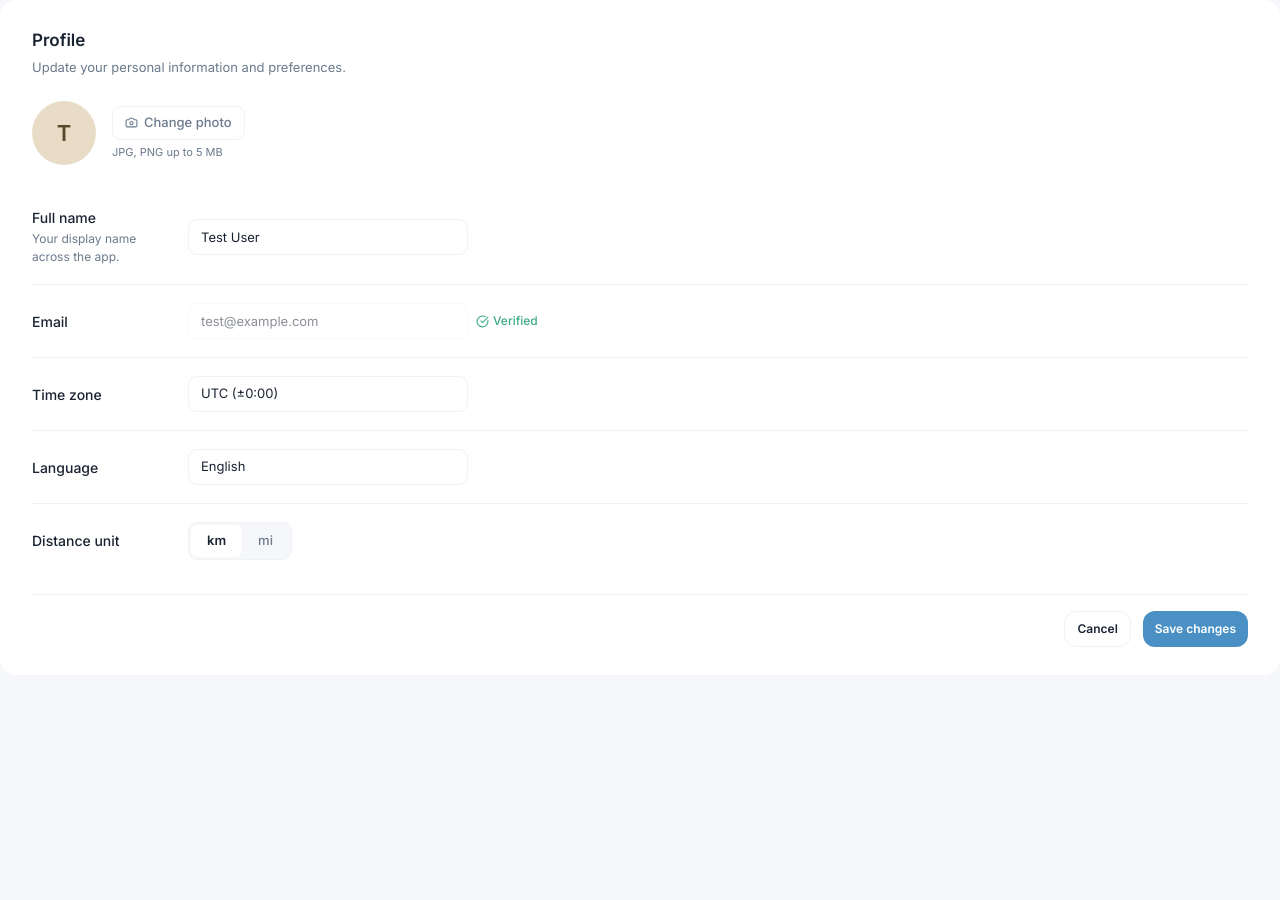
Test: ProfileSection › shows success toast after saving
Replace the text in the field showing "Test User" next to "Your display name across the app." with "New Name": (328, 236) 188,218 -> 468,254
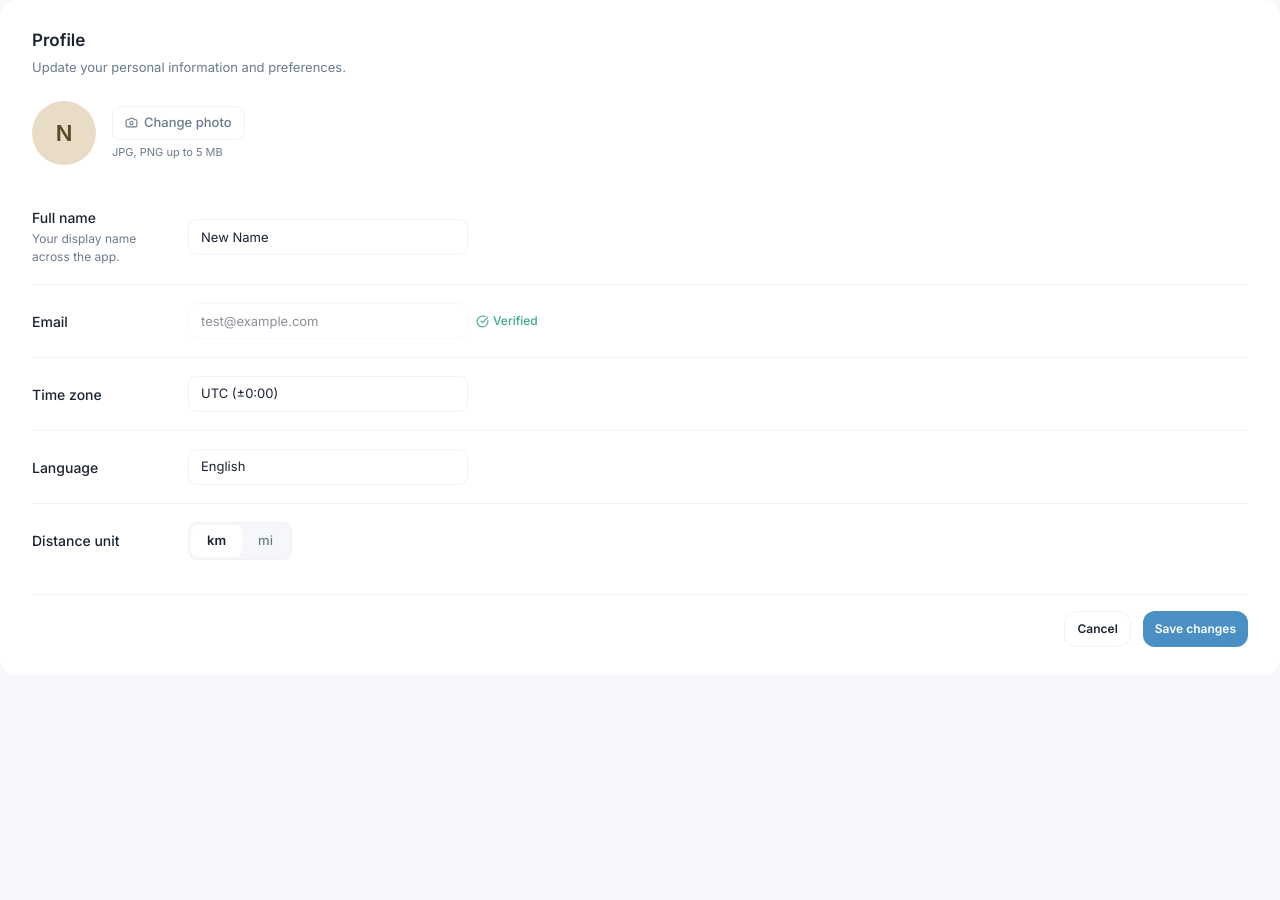
Click the button "Save changes": (1195, 628) 1143,610 -> 1248,646
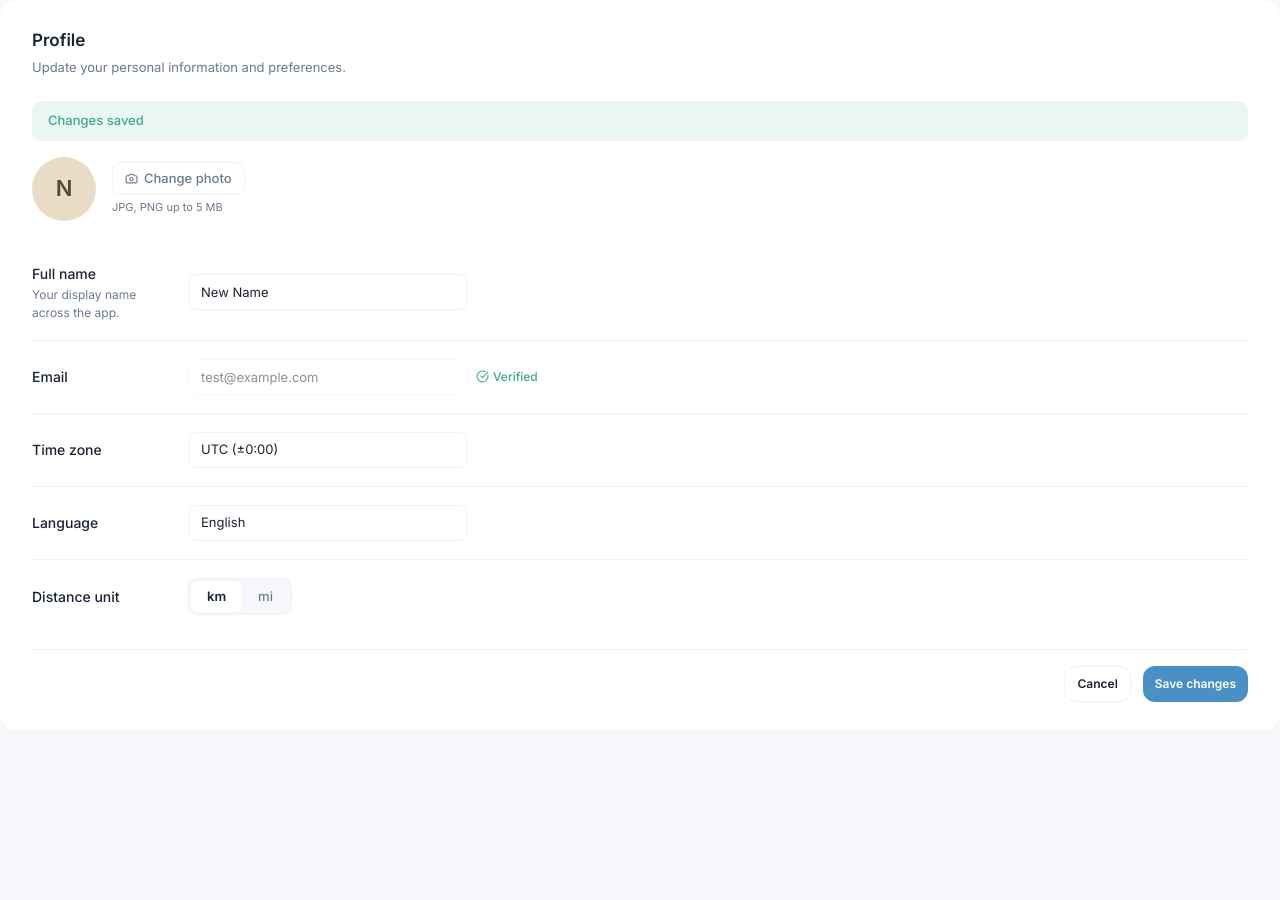
Result: the message reads "Changes saved" at 48,112 -> 144,128
